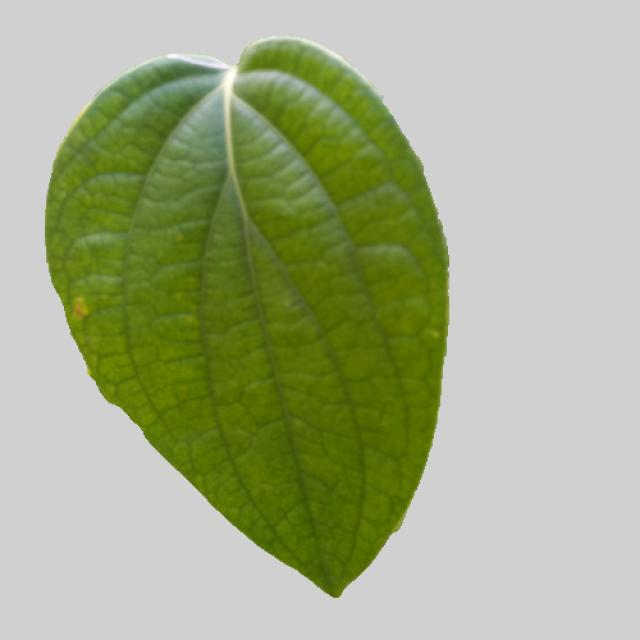healthy: (43, 38, 450, 600)
